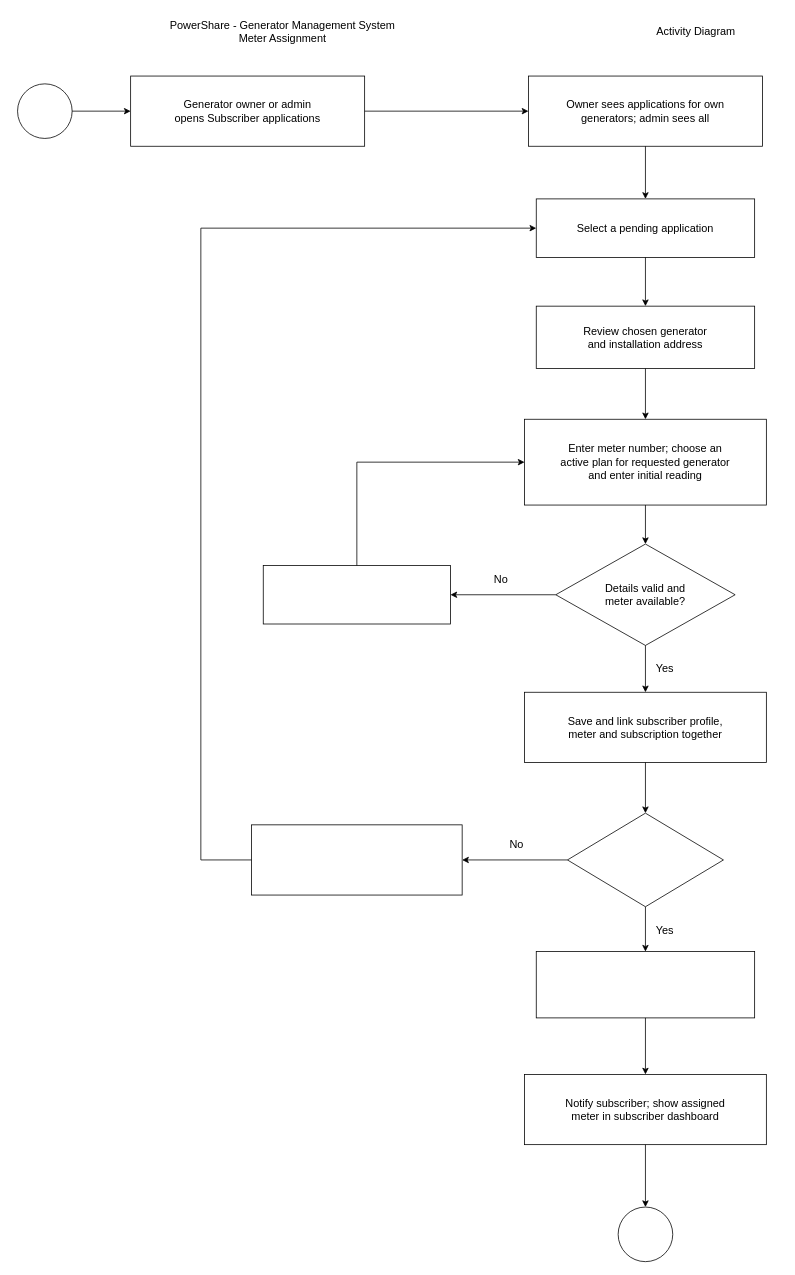
Some shapes in this 795 by 1275 pixel diagram are drawn without their labels. Each missing label, with the centre of its shape:
End: (645,1234)
Keep application pending; show error and allow retry: (356,859)
Mark application Assigned; record who assigned the meter: (645,984)
Saved successfully?: (645,859)
Show validation error: (356,594)
Start: (44,110)
